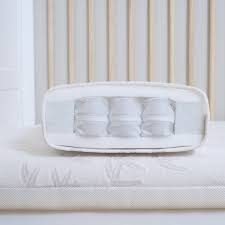bed-matress: (1, 118, 225, 209)
